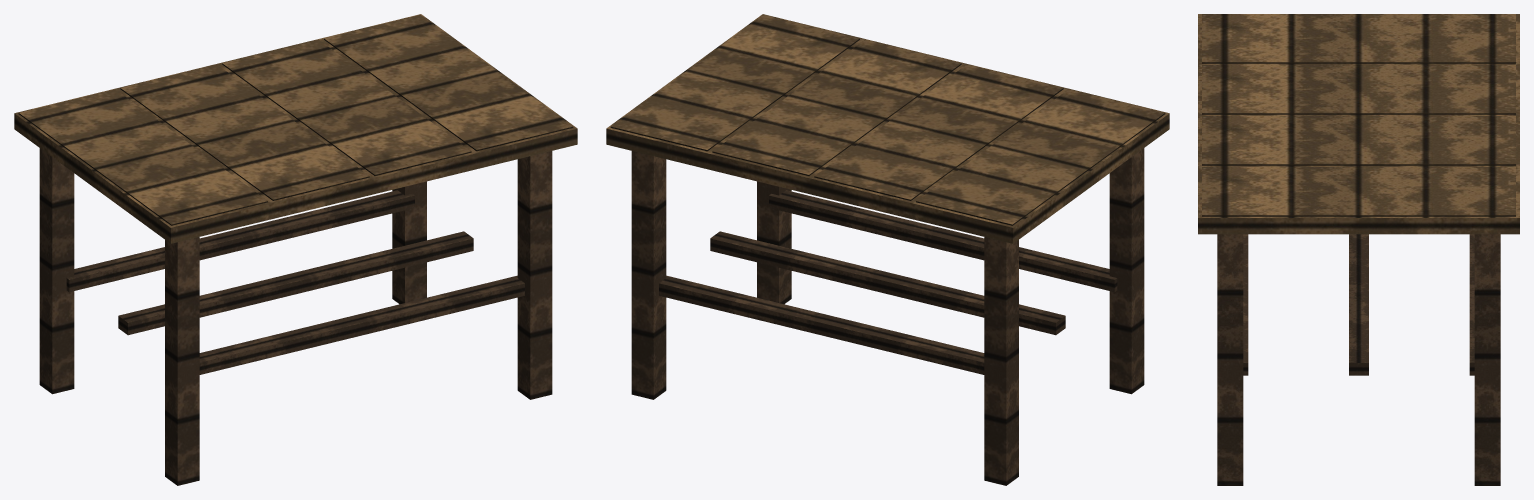
The model's file is prop.table.wood.glb.
The picture shows the model from 3 angles, left to right: view 1: azimuth 30°, elevation 25°; view 2: azimuth 150°, elevation 25°; view 3: azimuth 270°, elevation 25°; orthographic projection. The views are drawn at different scales.
Visible parts, largest first — view 1: prop.table.wood; view 2: prop.table.wood; view 3: prop.table.wood.
Boxes of the visible parts, x1,y1,x2,y2 form: prop.table.wood: (14, 14, 577, 485); prop.table.wood: (606, 14, 1169, 485); prop.table.wood: (1198, 14, 1519, 485).
Size of the model in its own units: 1.2 by 0.761 by 0.8.
2 materials, 2 textured.
